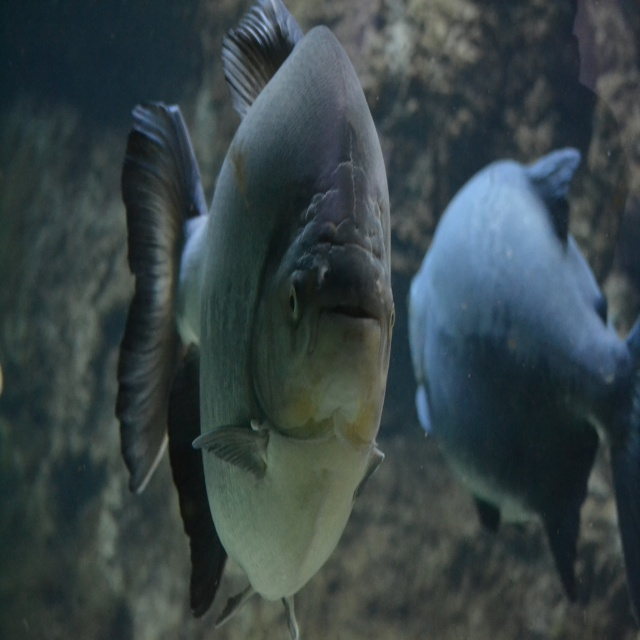Fish: (124, 0, 411, 636), (406, 153, 640, 608)
